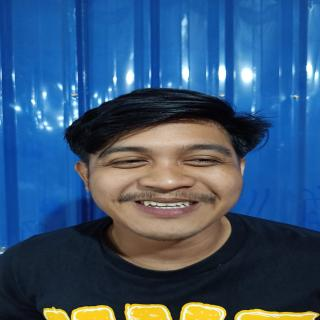Senang: (85, 117, 248, 246)
